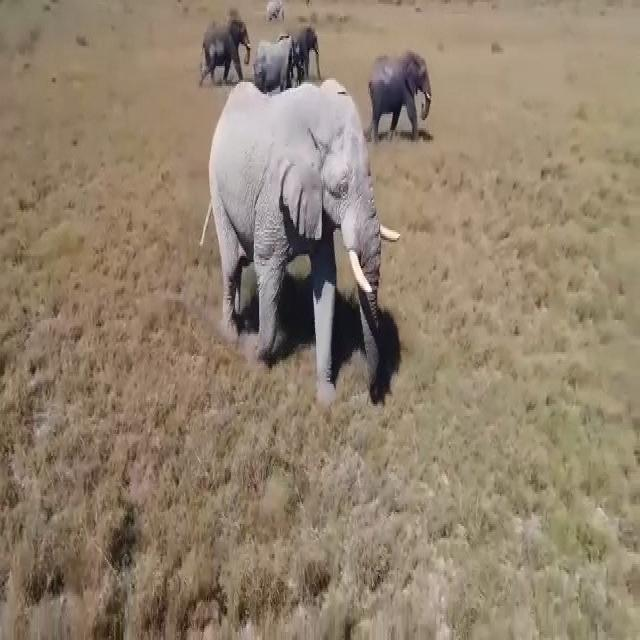Elephant: (205, 80, 405, 392), (367, 58, 439, 138), (195, 2, 252, 82), (256, 22, 321, 87), (269, 2, 289, 22)
